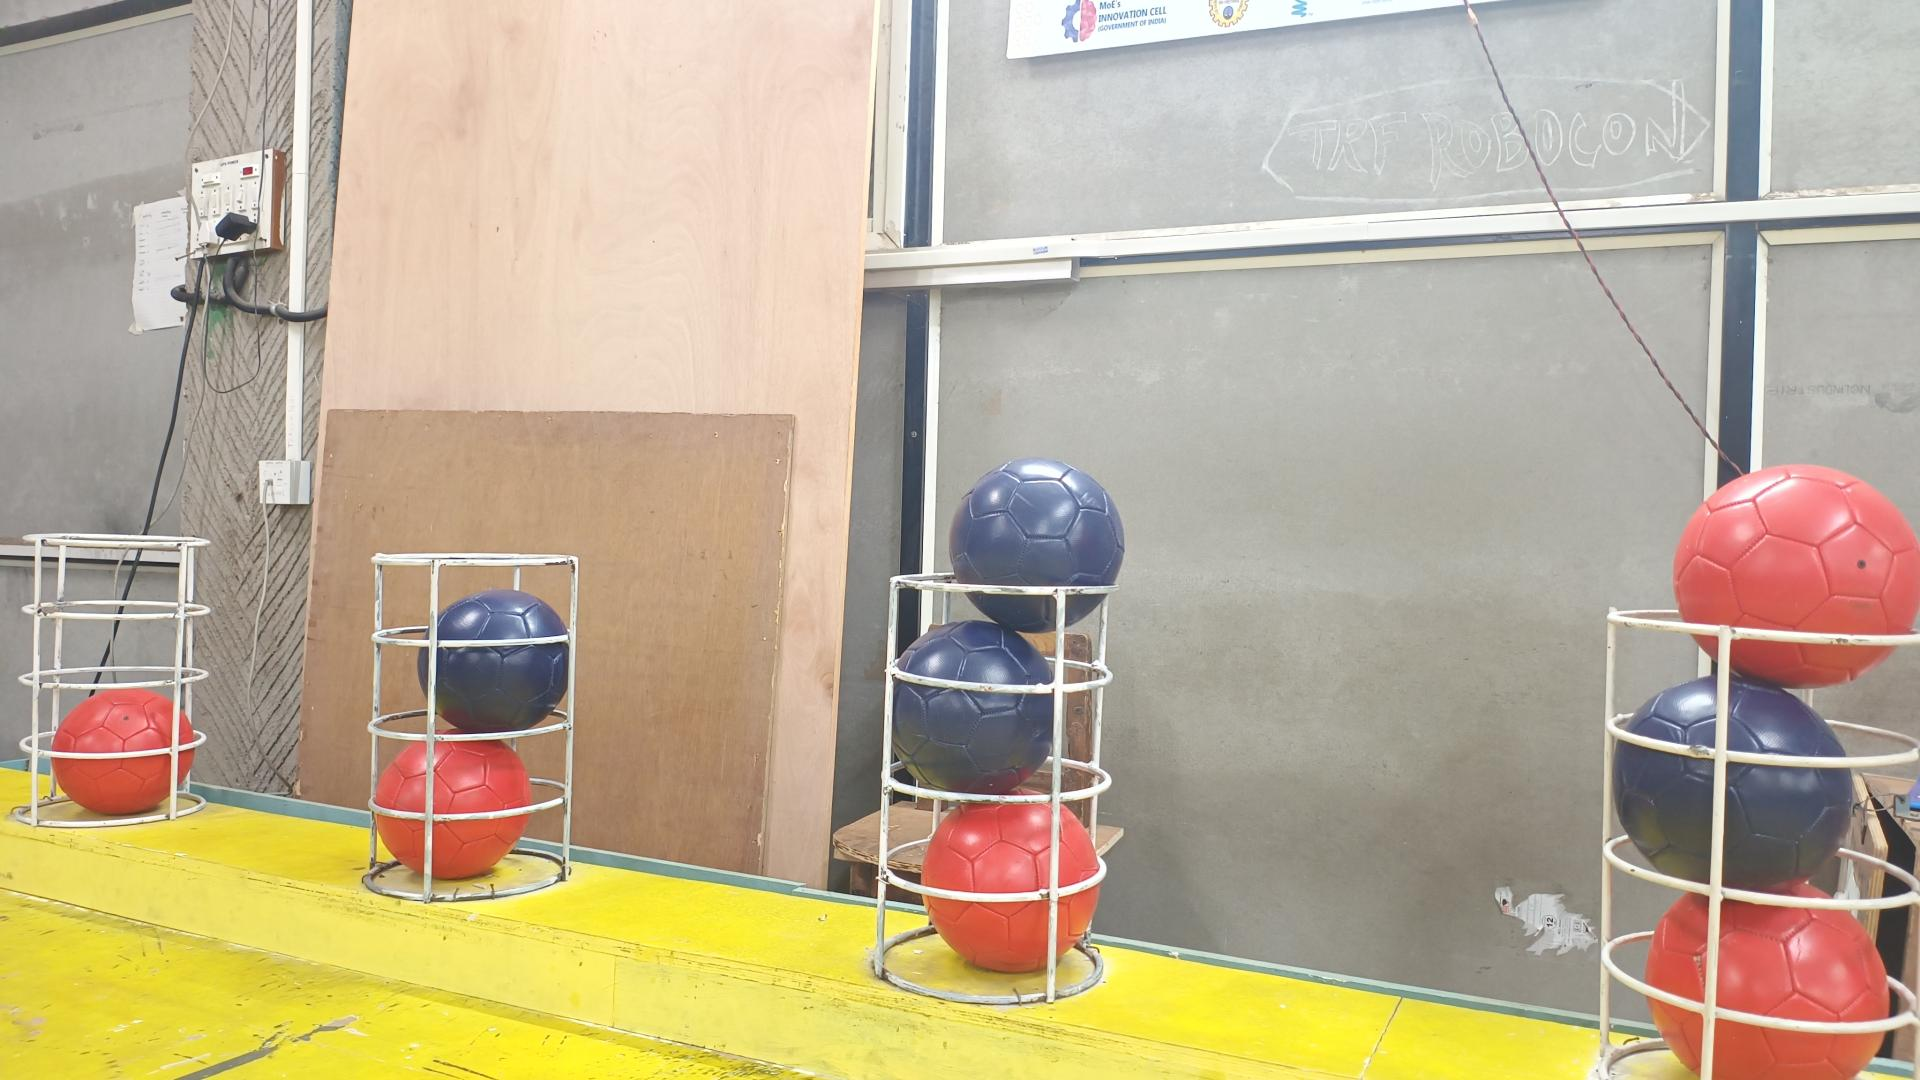dhoka: (1613, 675, 1857, 893), (948, 458, 1125, 634), (893, 618, 1054, 795), (417, 588, 570, 735)
laale: (1672, 465, 1920, 690), (1646, 893, 1894, 1080), (923, 799, 1102, 975), (372, 738, 533, 881), (49, 686, 195, 814)
